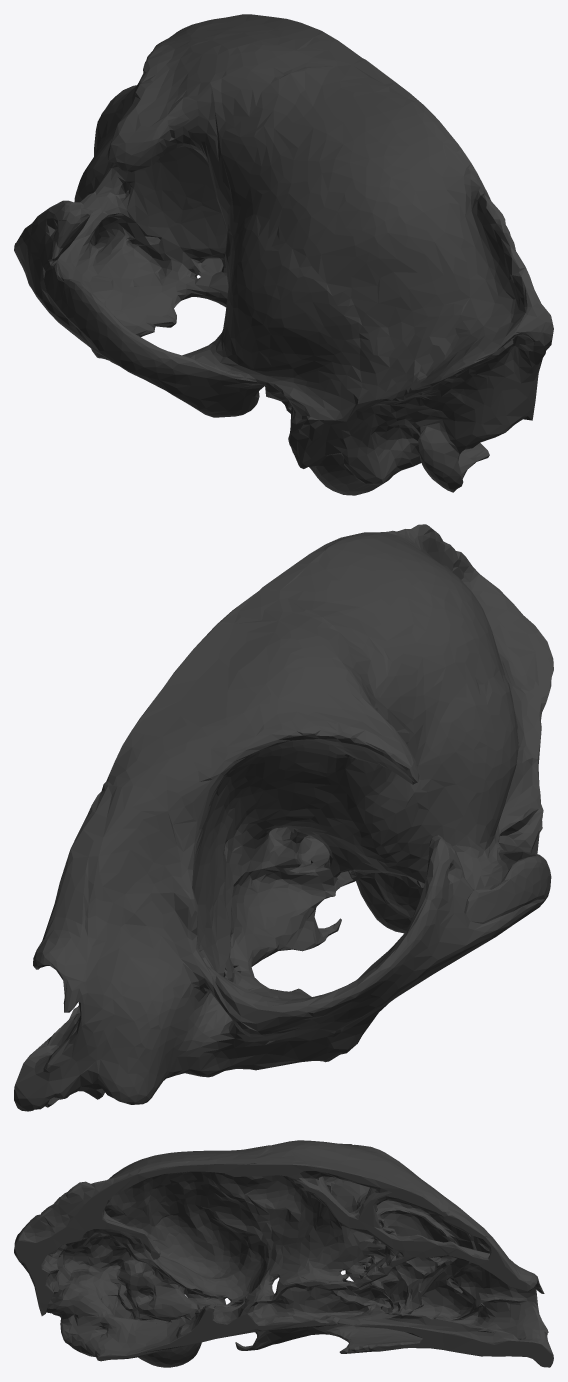
Rendered from Maxilla_clean_voids_fill_fine.glb.
3 views of the same model, one above another, from view 1: azimuth 30°, elevation 25°; view 2: azimuth 150°, elevation 25°; view 3: azimuth 270°, elevation 25° (orthographic). The views are drawn at different scales.
Parts seen in each view (by area): view 1: Maxilla_clean_voids_fill_fine; view 2: Maxilla_clean_voids_fill_fine; view 3: Maxilla_clean_voids_fill_fine.
Boxes of the visible parts, x1,y1,x2,y2 form: Maxilla_clean_voids_fill_fine: (14,14,553,495); Maxilla_clean_voids_fill_fine: (14,524,553,1111); Maxilla_clean_voids_fill_fine: (14,1140,553,1367).
Size of the model in its own units: 0.3461 by 0.4294 by 0.9258.
1 material, 1 textured.
